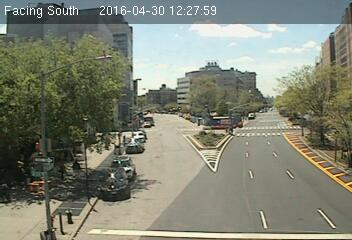neg: (263, 105, 293, 146), (163, 90, 191, 127), (207, 166, 232, 199), (54, 51, 79, 84), (210, 97, 234, 129), (109, 171, 129, 198), (25, 161, 45, 188), (119, 114, 137, 138), (176, 32, 193, 54), (104, 35, 121, 57), (21, 201, 37, 222), (314, 79, 329, 100), (247, 44, 261, 62), (198, 137, 211, 155), (62, 212, 74, 229)
pos: (1, 181, 19, 204), (70, 159, 82, 174)
